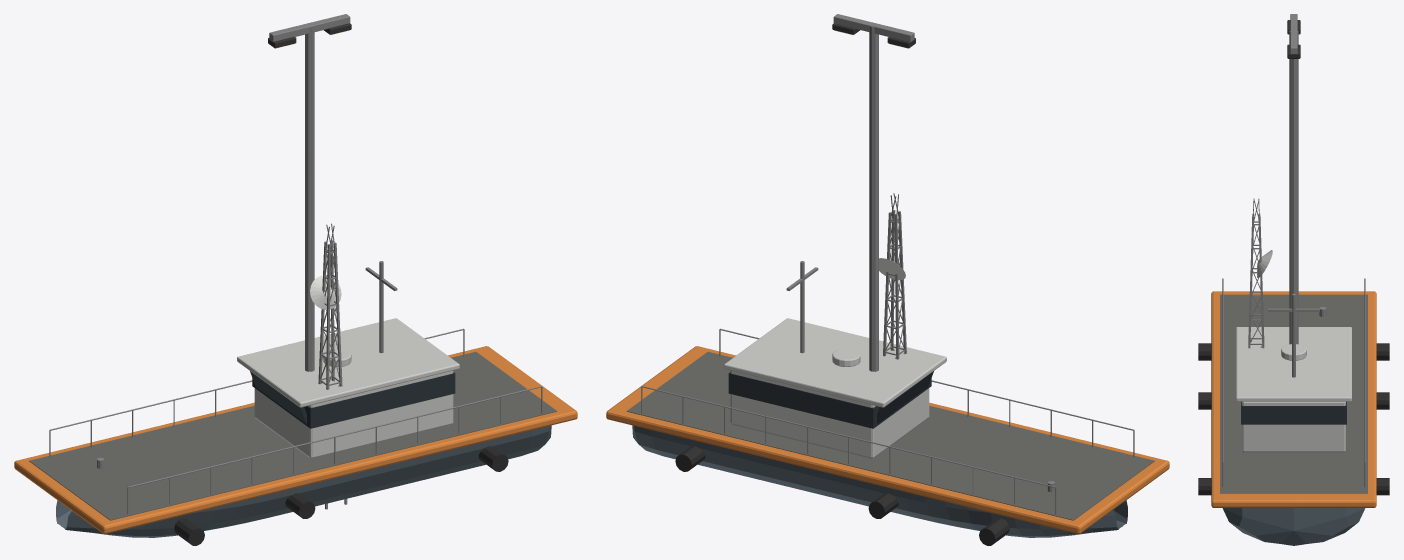
Rendered from props.glb.
3 views of the same model, side by side, from view 1: azimuth 30°, elevation 25°; view 2: azimuth 150°, elevation 25°; view 3: azimuth 270°, elevation 25° (orthographic). The views are drawn at different scales.
Visible parts, largest first — view 1: boat, lamppost, relay; view 2: boat, lamppost, relay; view 3: boat, lamppost, relay.
Boxes of the visible parts, x1,y1,x2,y2 form: boat: (14,261,577,545); lamppost: (268,14,351,371); relay: (310,223,347,509); boat: (606,261,1169,545); lamppost: (832,14,915,371); relay: (879,193,906,359); boat: (1198,278,1389,545); lamppost: (1287,14,1300,344); relay: (1248,198,1272,348).
Size of the model in its own units: 17.2 by 16.19 by 6.6.
